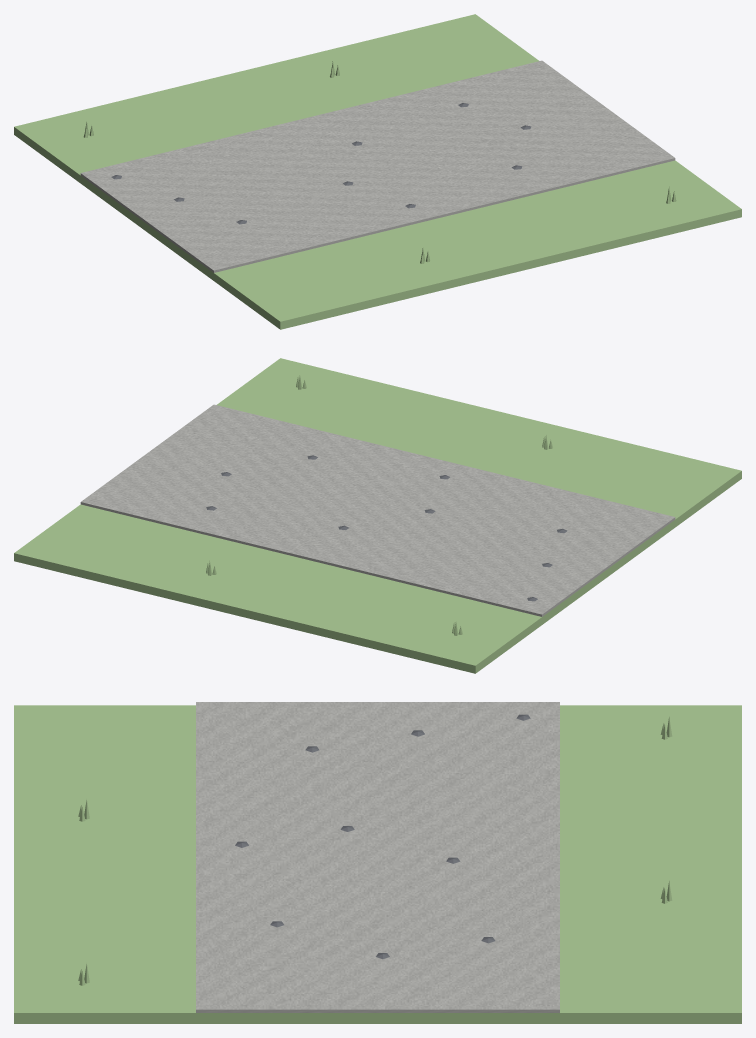
The model's file is caravan-park-and-campsite-gravel-track-tile-ae9e0a10__35356.glb.
3 views of the same model, one above another, from view 1: azimuth 30°, elevation 25°; view 2: azimuth 150°, elevation 25°; view 3: azimuth 270°, elevation 25° (orthographic). The views are drawn at different scales.
Parts seen in each view (by area): view 1: gravel-track-tile-grass, gravel-track-tile-hard; view 2: gravel-track-tile-grass, gravel-track-tile-hard; view 3: gravel-track-tile-grass, gravel-track-tile-hard, gravel-track-tile-charcoal.
Boxes of the visible parts, x1=… form: gravel-track-tile-grass: x1=14, y1=14, x2=741, y2=329; gravel-track-tile-hard: x1=80, y1=60, x2=675, y2=272; gravel-track-tile-grass: x1=14, y1=358, x2=741, y2=673; gravel-track-tile-hard: x1=80, y1=404, x2=675, y2=616; gravel-track-tile-grass: x1=14, y1=705, x2=741, y2=1023; gravel-track-tile-hard: x1=196, y1=702, x2=559, y2=1012; gravel-track-tile-charcoal: x1=235, y1=714, x2=530, y2=959.
Bounding box in the file's own units: 6 × 0.2798 × 6.
3 materials, 1 textured.
